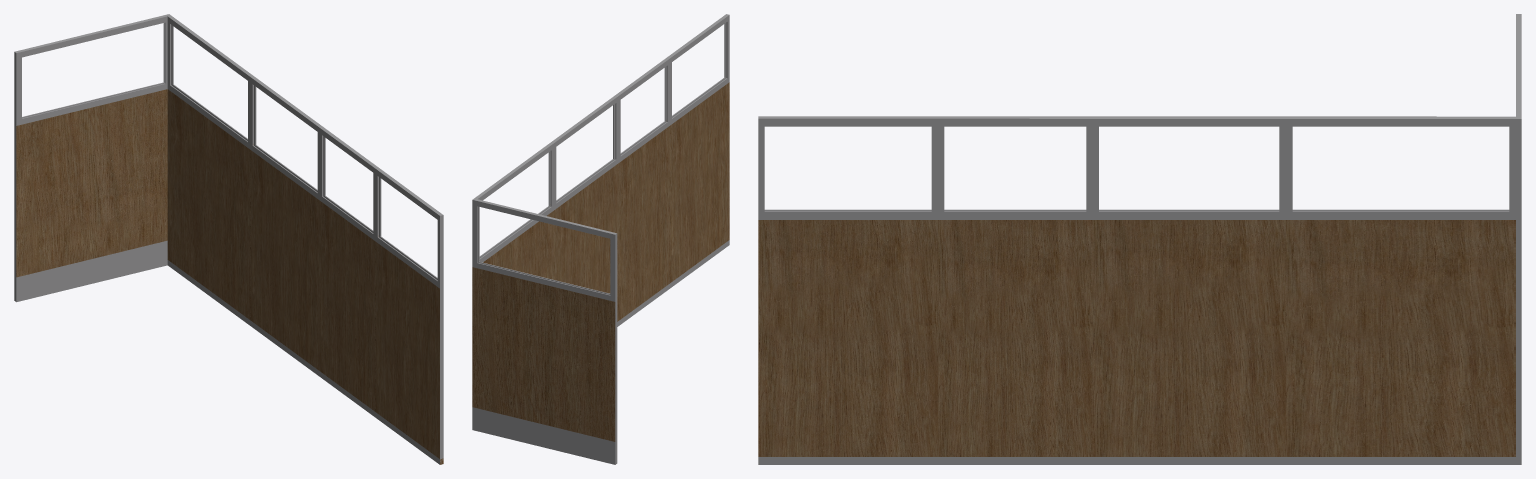
The model's file is cubiculo_2.glb.
3 views of the same model, side by side, from view 1: azimuth 30°, elevation 25°; view 2: azimuth 150°, elevation 25°; view 3: azimuth 270°, elevation 25° (orthographic). The views are drawn at different scales.
Parts seen in each view (by area): view 1: cubiculo 2_export; view 2: cubiculo 2_export; view 3: cubiculo 2_export.
Boxes of the visible parts, bbox=[...] form: cubiculo 2_export: bbox=[14, 14, 443, 464]; cubiculo 2_export: bbox=[472, 14, 729, 464]; cubiculo 2_export: bbox=[758, 14, 1521, 464].
Size of the model in its own units: 5.85 by 9 by 17.99.
2 materials, 1 textured.
